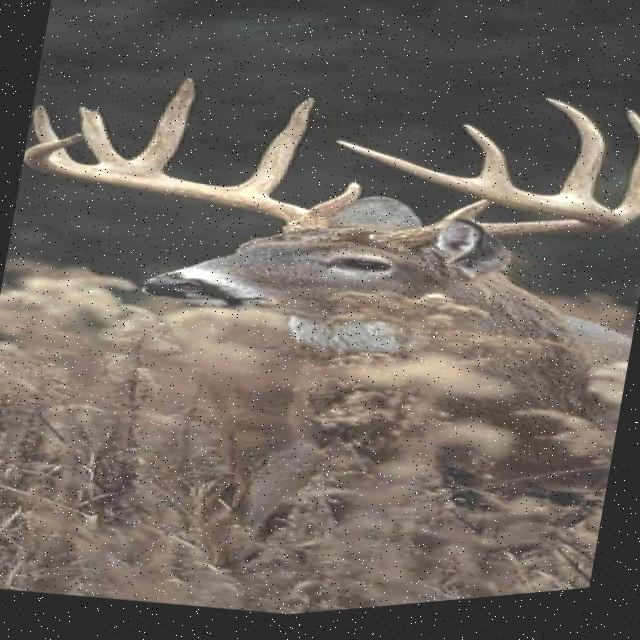L-G2: (611, 120, 640, 233)
L-G3: (538, 106, 608, 215)
L-G4: (460, 131, 518, 198)
R-F: (22, 135, 334, 239)
R-G1: (309, 187, 363, 221)
R-G2: (226, 101, 317, 203)
R-G3: (127, 80, 197, 178)
R-G4: (78, 107, 126, 166)
